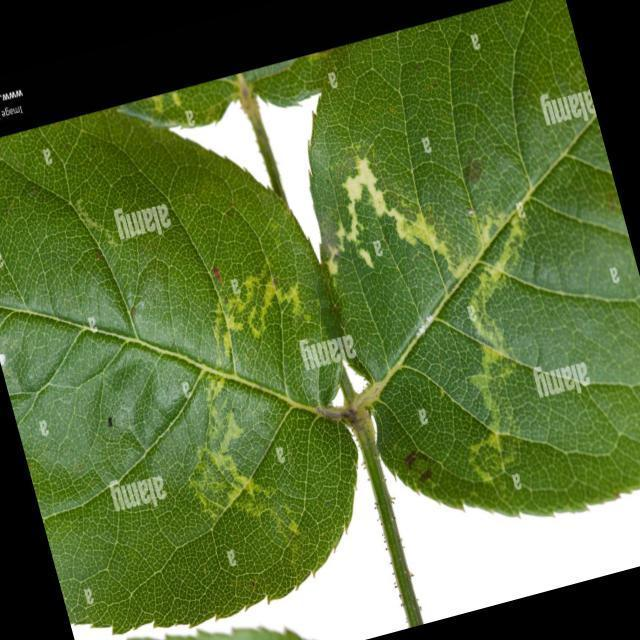Mosaic Virus: (295, 79, 640, 552), (92, 220, 372, 612)
